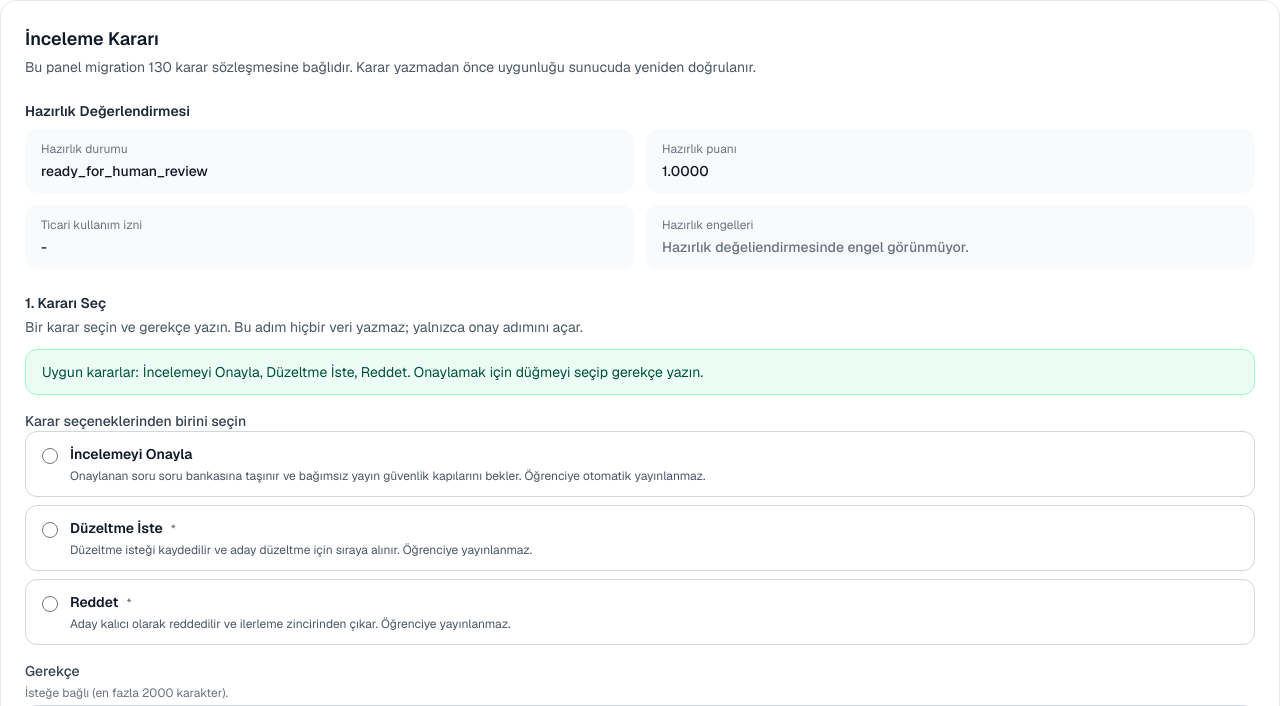
Test: kilit kapı: karar yazmadan önce onay adımı yoktur › onaya git düğmesi onay adımını açar ama YAZMAZ
Click the radio button labelled "Reddet": click(50, 604) top-left (42, 596), bottom-right (58, 612)
(page scrolled)
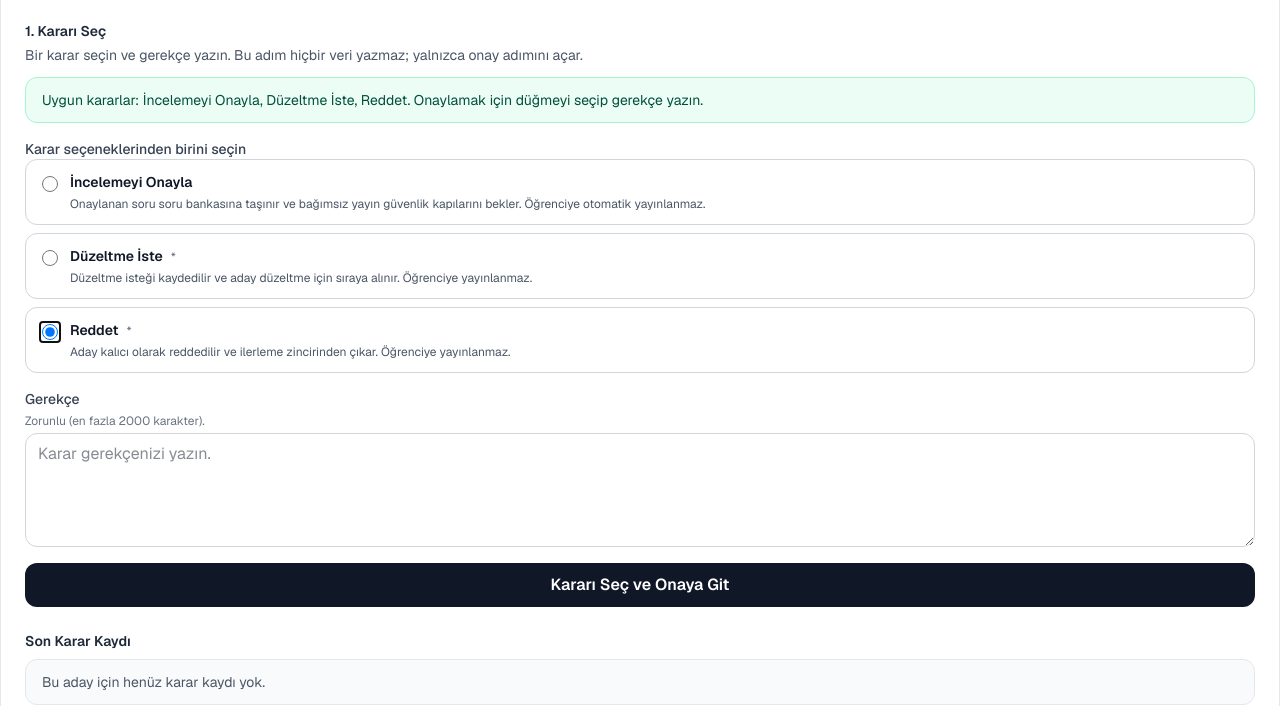
Click the button "Kararı Seç ve Onaya Git": click(640, 585) top-left (25, 563), bottom-right (1255, 607)
(page scrolled)
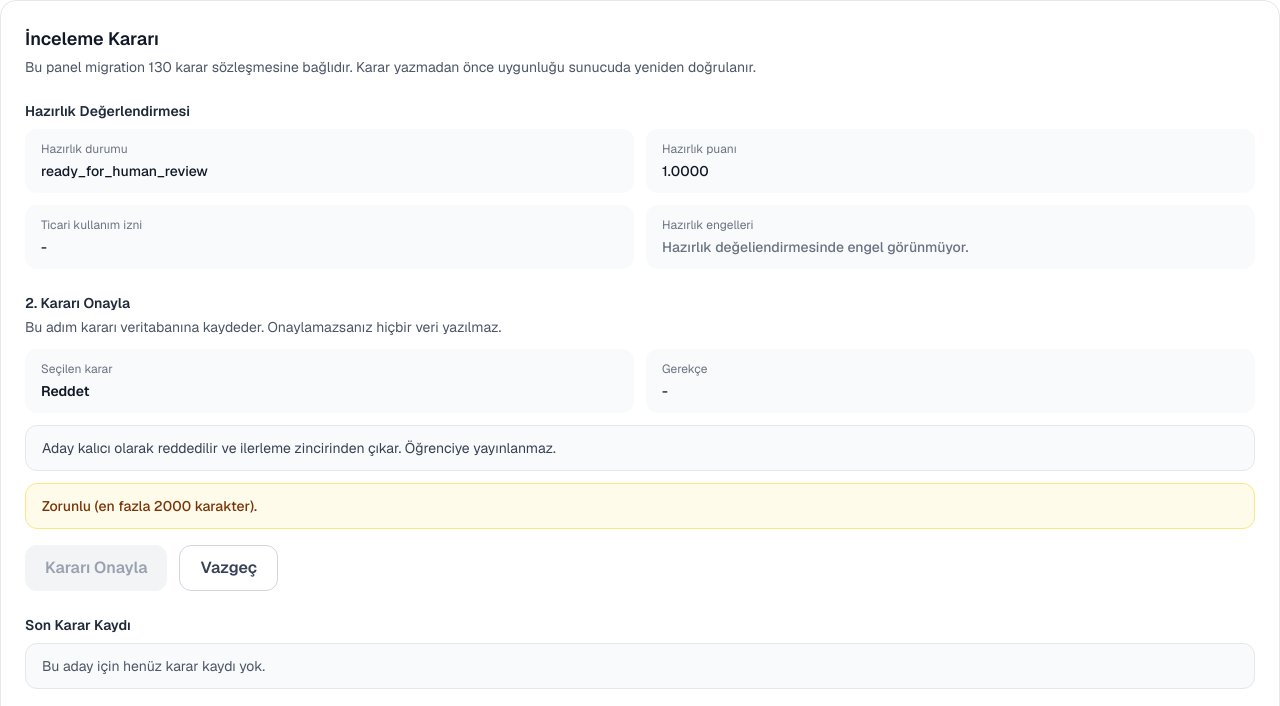
Expected: the button "Kararı Onayla" is shown, top-left (25, 545), bottom-right (168, 591)
Expected: the heading "2. Kararı Onayla" is shown, top-left (25, 294), bottom-right (130, 312)
